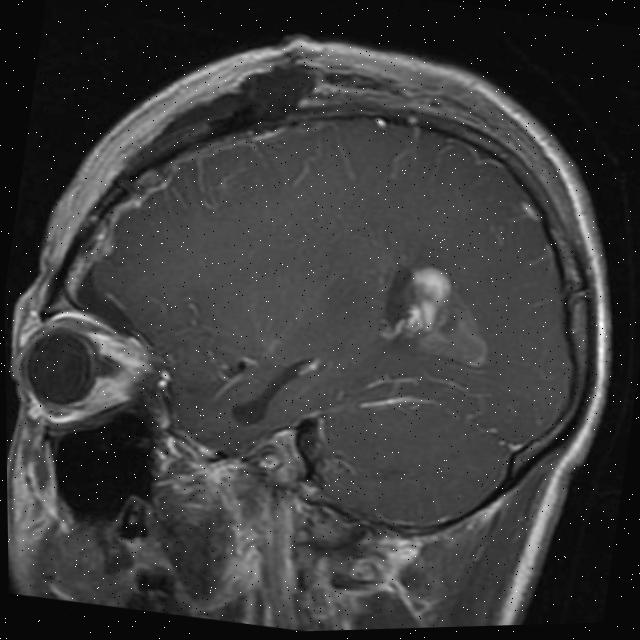Glioma: (374, 255, 502, 373)
